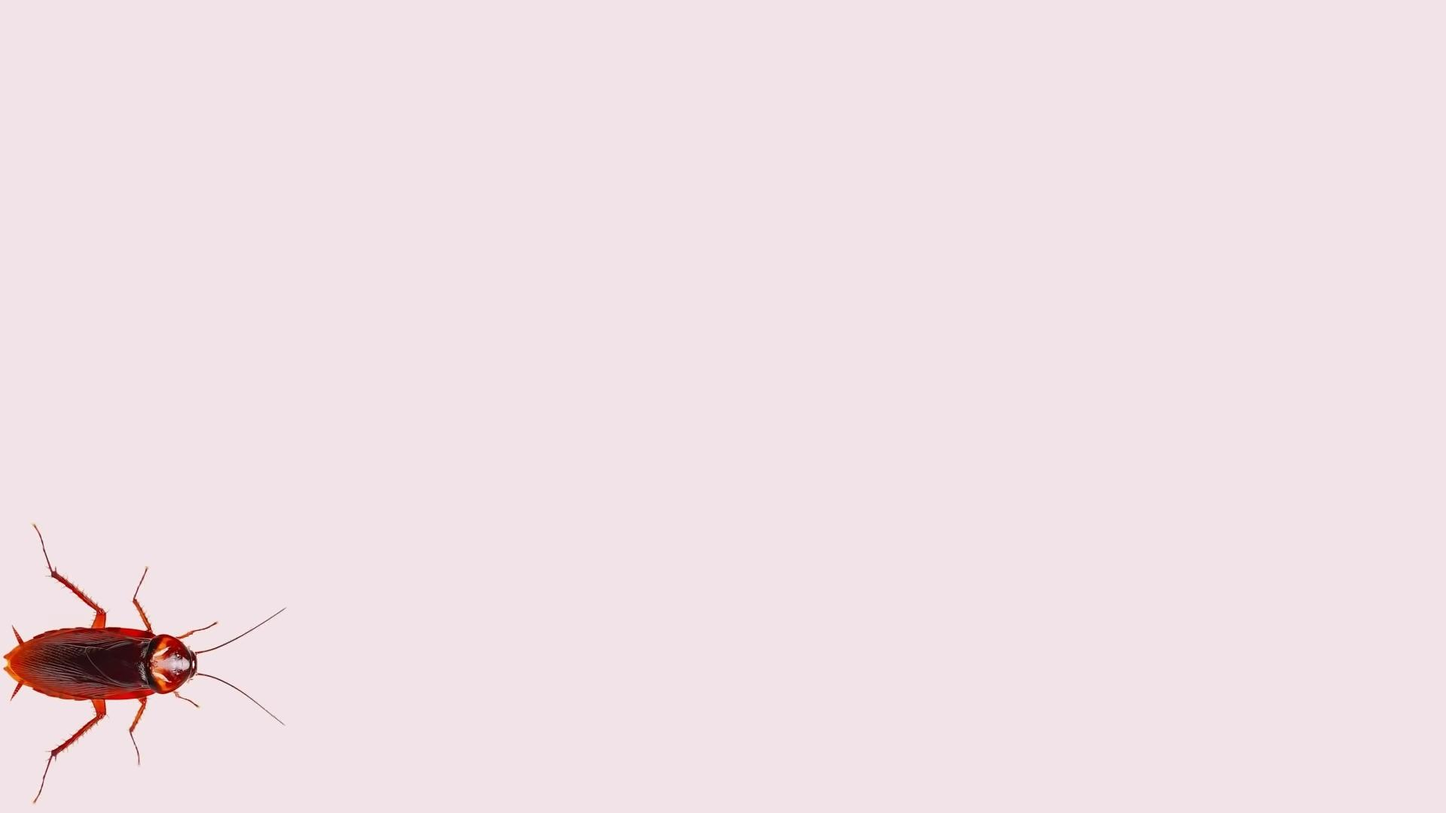cockroach: (13, 535, 293, 798)
